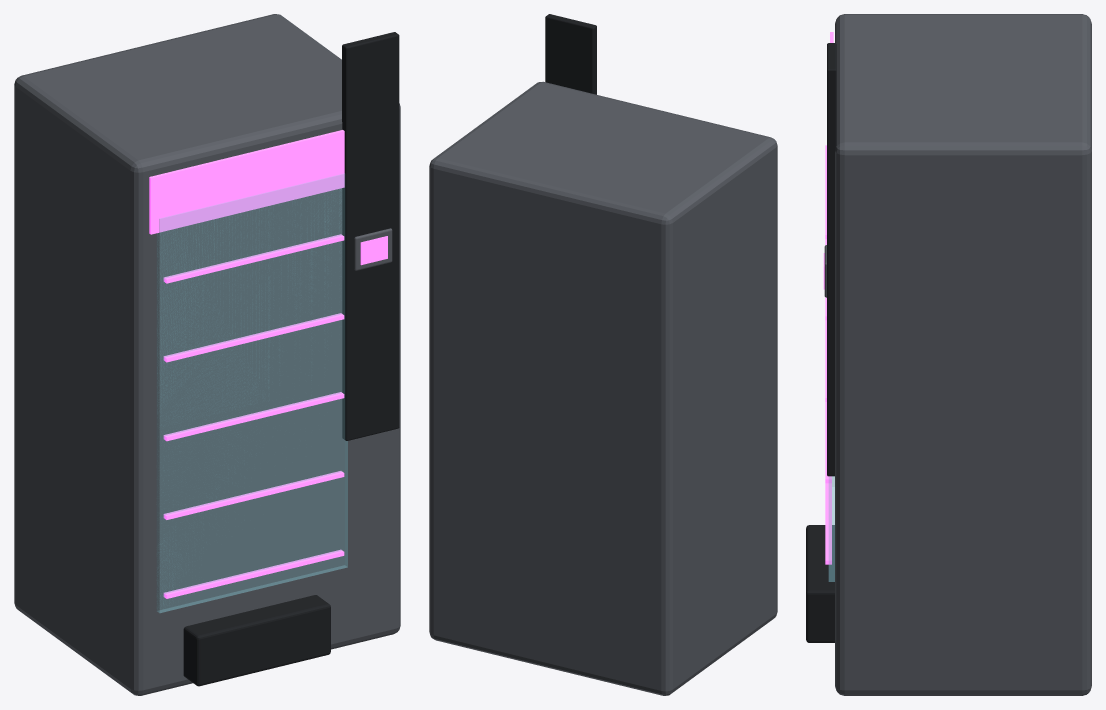
The model's file is vending_machine_snack_hex.glb.
3 views of the same model, side by side, from view 1: azimuth 30°, elevation 25°; view 2: azimuth 150°, elevation 25°; view 3: azimuth 270°, elevation 25° (orthographic). The views are drawn at different scales.
Visible parts, largest first — view 1: GD_vending_machine_snack_hex__m0, GD_vending_machine_snack_hex__m1, GD_vending_machine_snack_hex__m8, GD_vending_machine_snack_hex__m7, GD_vending_machine_snack_hex__m9; view 2: GD_vending_machine_snack_hex__m0, GD_vending_machine_snack_hex__m8; view 3: GD_vending_machine_snack_hex__m0, GD_vending_machine_snack_hex__m8, GD_vending_machine_snack_hex__m7, GD_vending_machine_snack_hex__m1.
Part boxes in pixels (left/top/right/bottom): GD_vending_machine_snack_hex__m0: left=14, top=14, right=400, bottom=695; GD_vending_machine_snack_hex__m1: left=157, top=173, right=347, bottom=612; GD_vending_machine_snack_hex__m8: left=183, top=32, right=399, bottom=686; GD_vending_machine_snack_hex__m7: left=149, top=130, right=344, bottom=598; GD_vending_machine_snack_hex__m9: left=360, top=236, right=387, bottom=265; GD_vending_machine_snack_hex__m0: left=429, top=81, right=777, bottom=695; GD_vending_machine_snack_hex__m8: left=545, top=14, right=596, bottom=94; GD_vending_machine_snack_hex__m0: left=824, top=14, right=1091, bottom=695; GD_vending_machine_snack_hex__m8: left=806, top=43, right=836, bottom=642; GD_vending_machine_snack_hex__m7: left=825, top=32, right=833, bottom=564; GD_vending_machine_snack_hex__m1: left=828, top=476, right=834, bottom=581.
Size of the model in its own units: 1 by 2.15 by 0.89.
